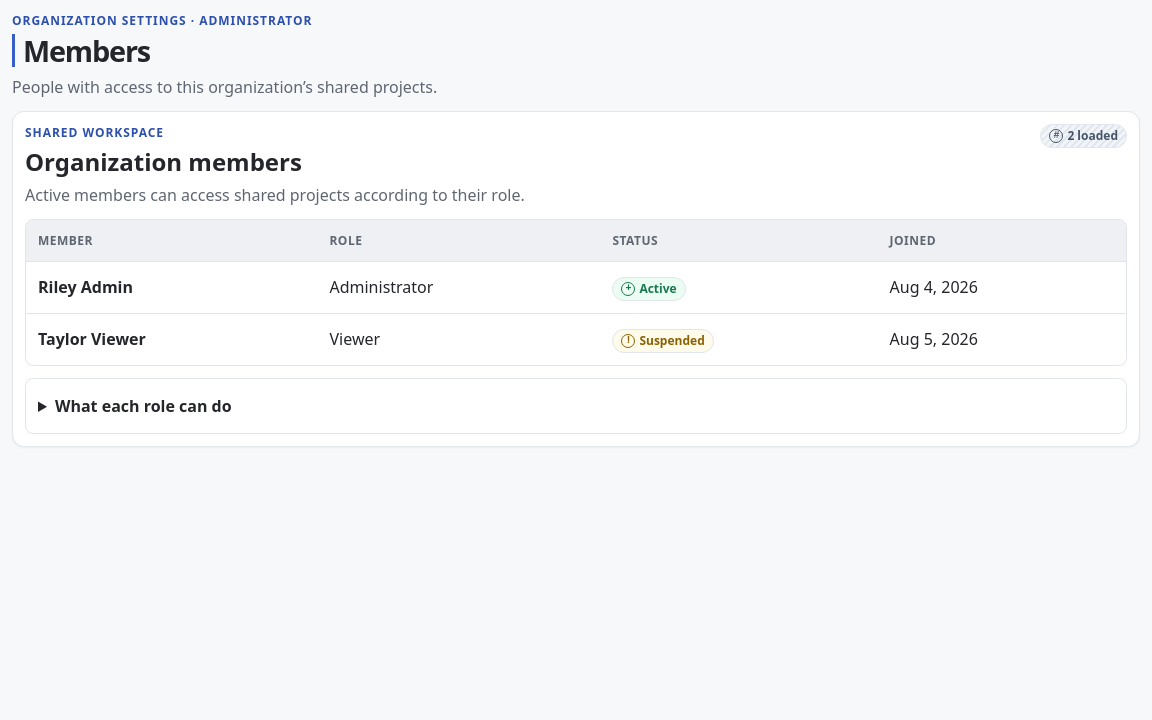
organization settings › renders an authorized read-only member roster
expect the column heading "Riley Admin" is shown: met, box x1=26 y1=262 x2=318 y2=313
expect the text "Administrator" is shown: met, box x1=318 y1=262 x2=600 y2=313
Click the heading "What each role can do" at (143, 406), box x1=55 y1=394 x2=232 y2=416
(page scrolled)
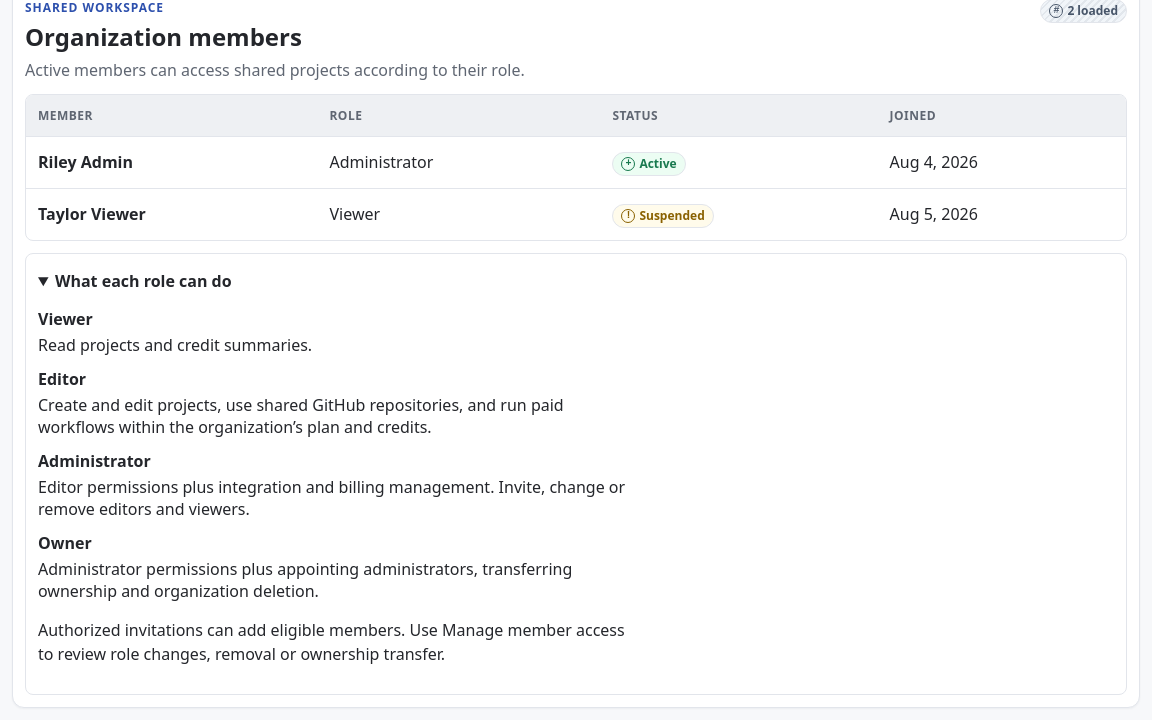
expect the text "Authorized invitations can add eligible members" is shown: met, box x1=38 y1=618 x2=625 y2=664
